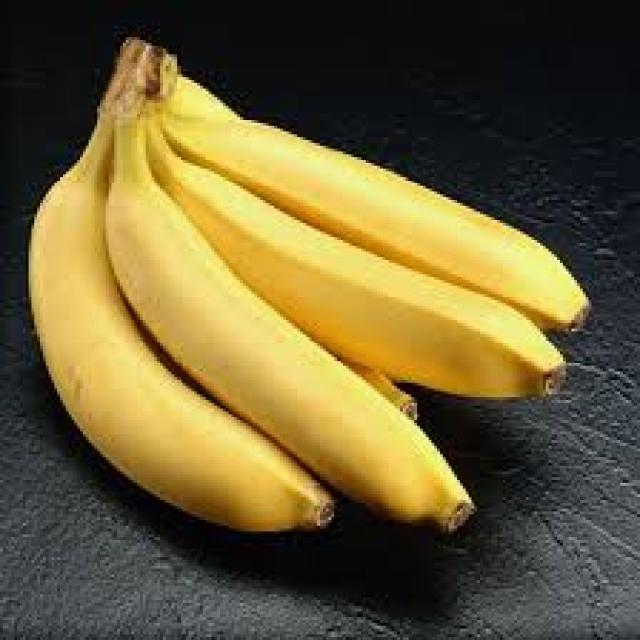Banana: (106, 116, 469, 523), (31, 149, 332, 531), (162, 78, 589, 329), (151, 138, 564, 397)
